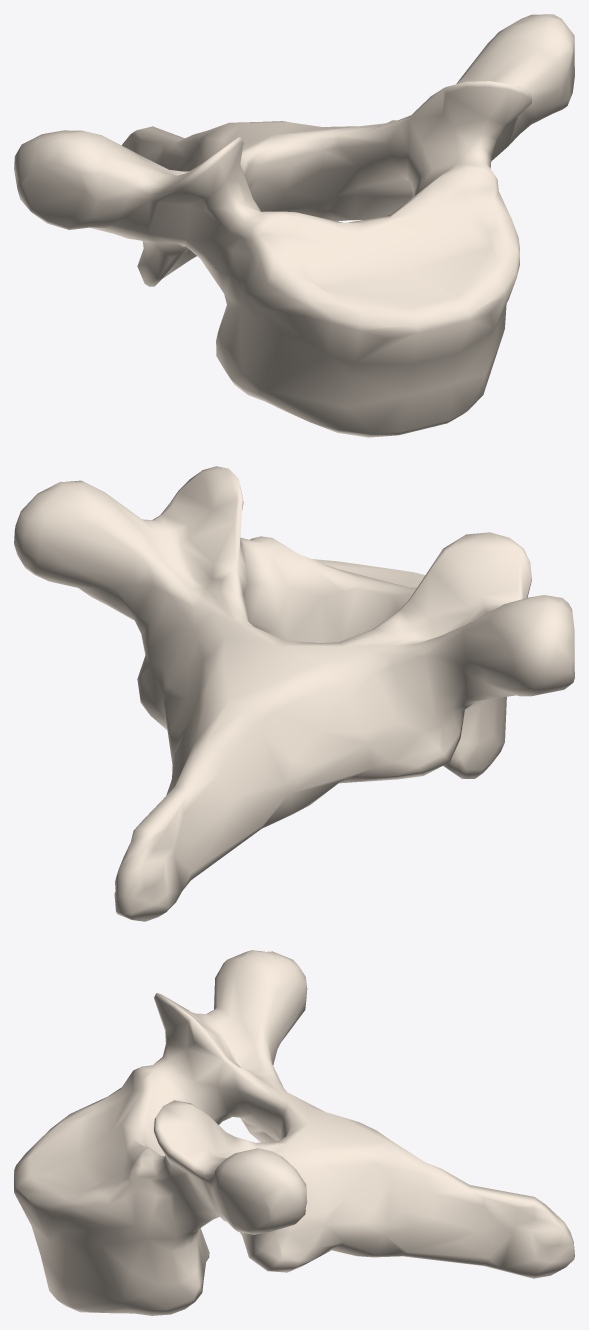
3 views of the same model, one above another, from view 1: azimuth 30°, elevation 25°; view 2: azimuth 150°, elevation 25°; view 3: azimuth 270°, elevation 25° (orthographic). The views are drawn at different scales.
Parts seen in each view (by area): view 1: Thoracic vertebrae (T2); view 2: Thoracic vertebrae (T2); view 3: Thoracic vertebrae (T2).
Part boxes in pixels (x1,y1,x2,y2): Thoracic vertebrae (T2): (14, 14, 574, 437); Thoracic vertebrae (T2): (14, 466, 574, 921); Thoracic vertebrae (T2): (14, 950, 574, 1315).
Bounding box in the file's own units: 0.0735 × 0.0345 × 0.0746.
